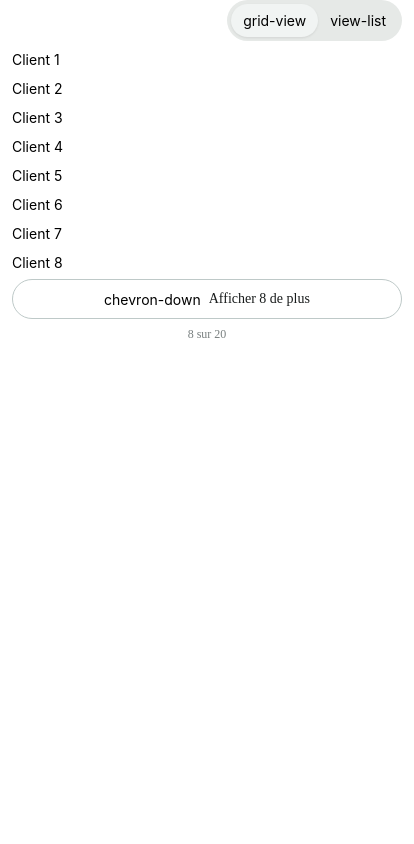
Test case: KitDataTable : cartes sur téléphone › « Afficher plus » ajoute une tranche, sans pages
Expected: the text "8 sur 20" is shown, [188,327,226,341]
Expected: the text "Client 9" is not shown
Click the text "Afficher 8 de plus": (259, 299) [209,291,310,307]
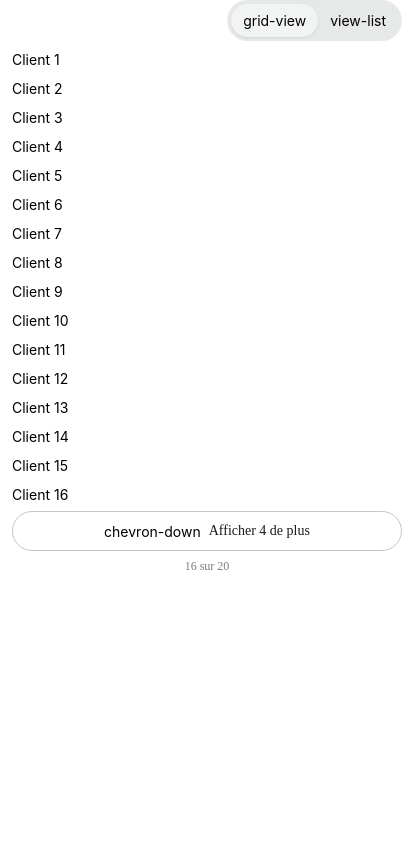
Now the text "16 sur 20" is shown, box [185,559,229,573]
Now the text "Client 9" is shown, box [12,283,63,300]
Click the text "Afficher 4 de plus": (259, 531) [209,523,310,539]
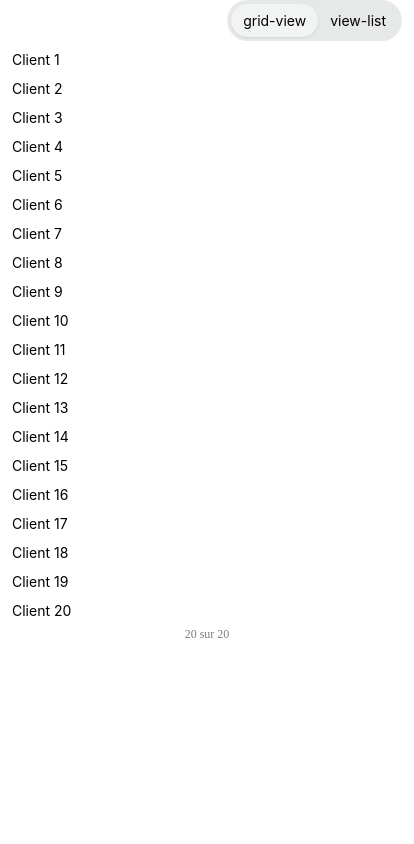
Now the text "20 sur 20" is shown, box [185,627,229,641]
Now the button "de plus" is gone
